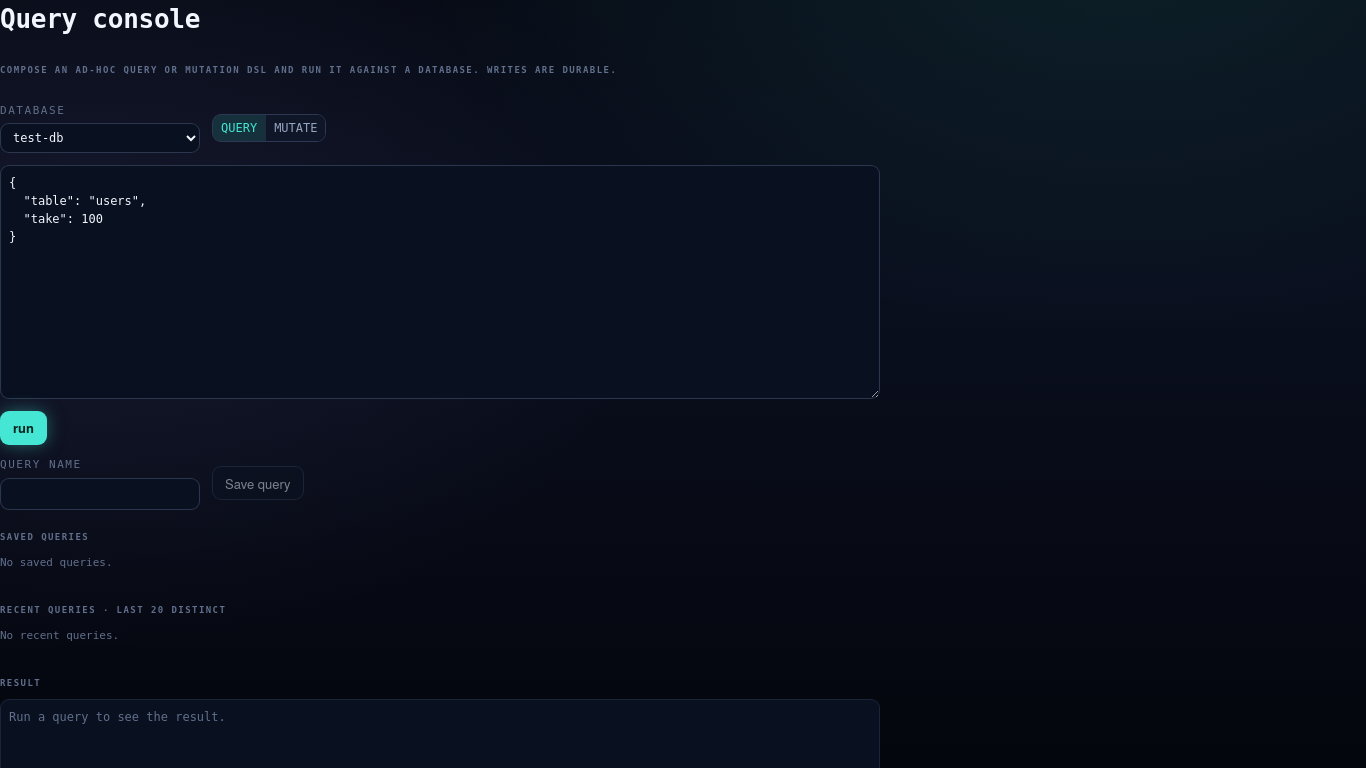
Test case: QueryConsolePage › switches to mutate mode and runs the default transaction
What coordinates should you click on to do the following:
click the button "mutate"
I would click on:
 (295, 128)
Its box is 265,115 -> 326,141.
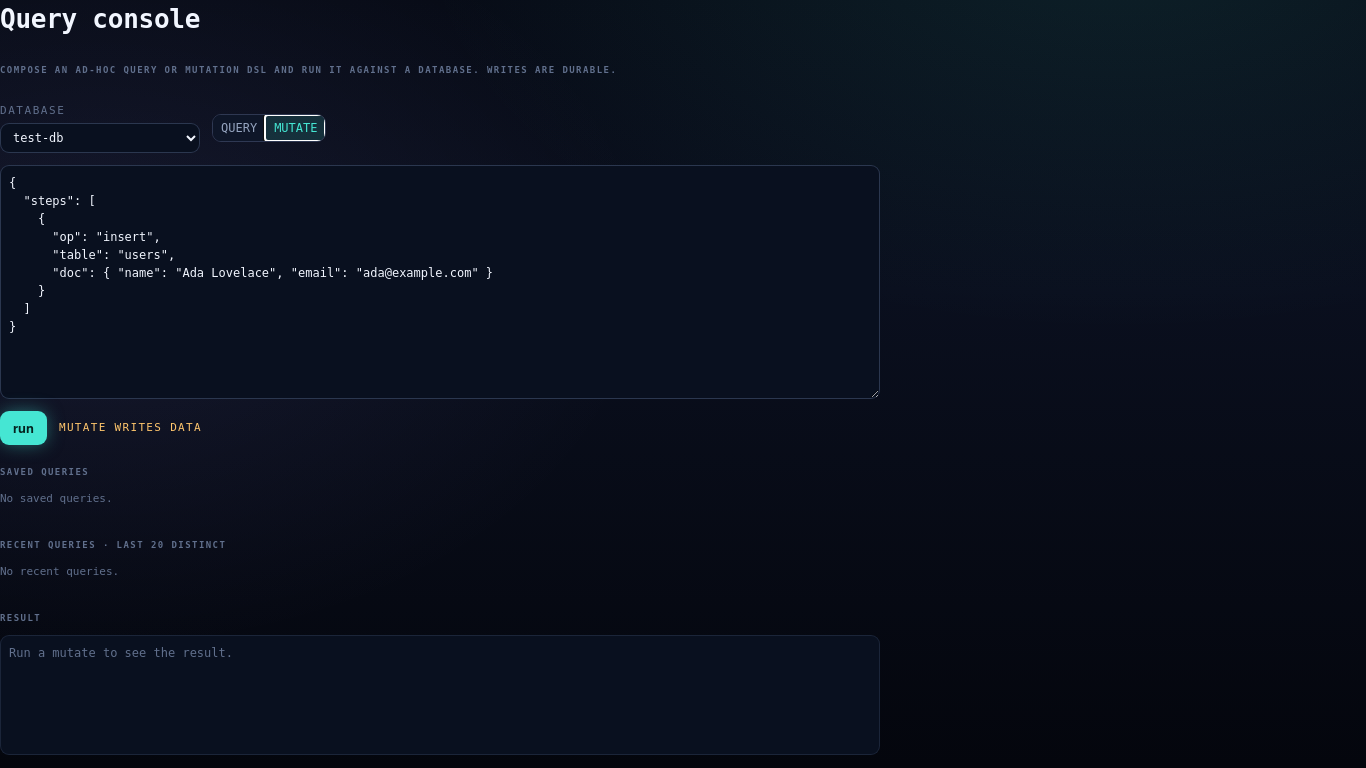
What coordinates should you click on to do the following:
click the button "run"
I would click on:
 (24, 428)
Its box is 0,411 -> 47,445.
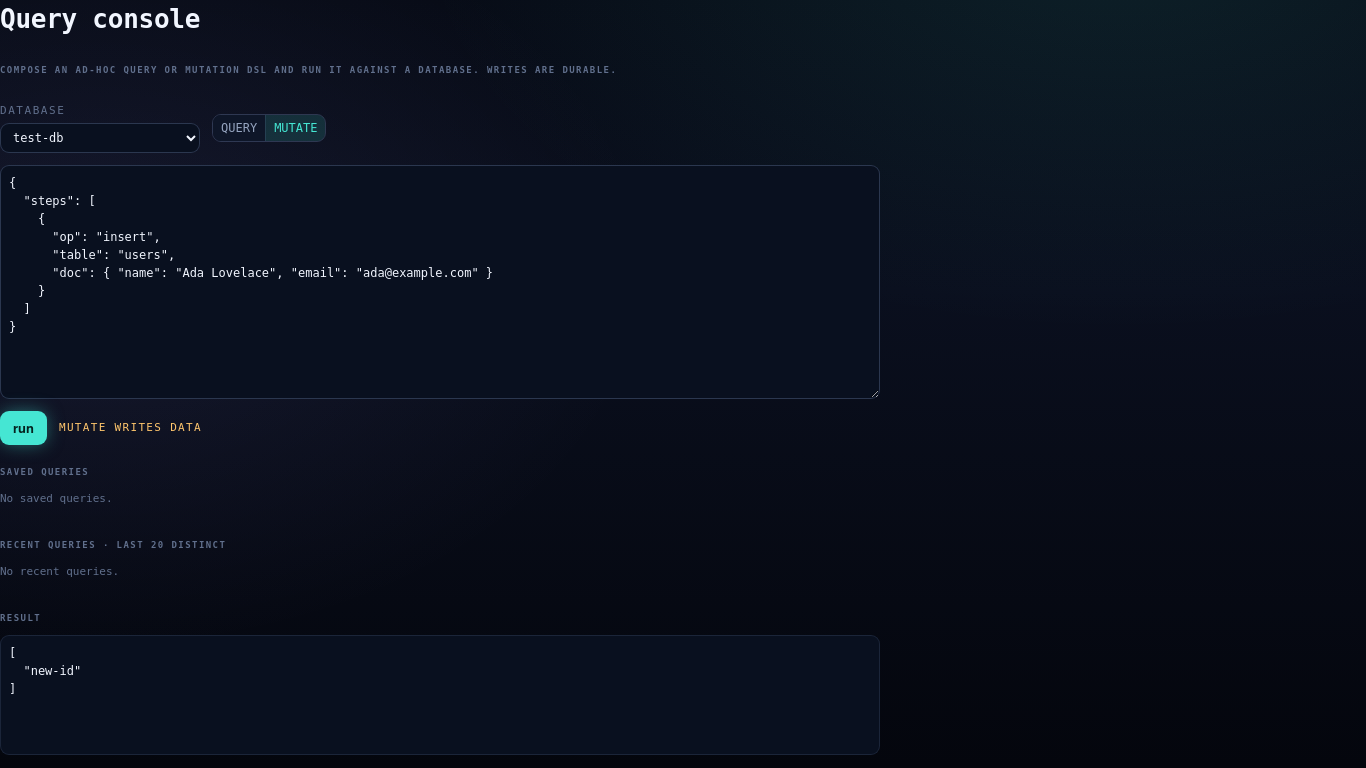
Check: the text "[ \"new-id\" ]" is shown, box 9,646 -> 81,696
